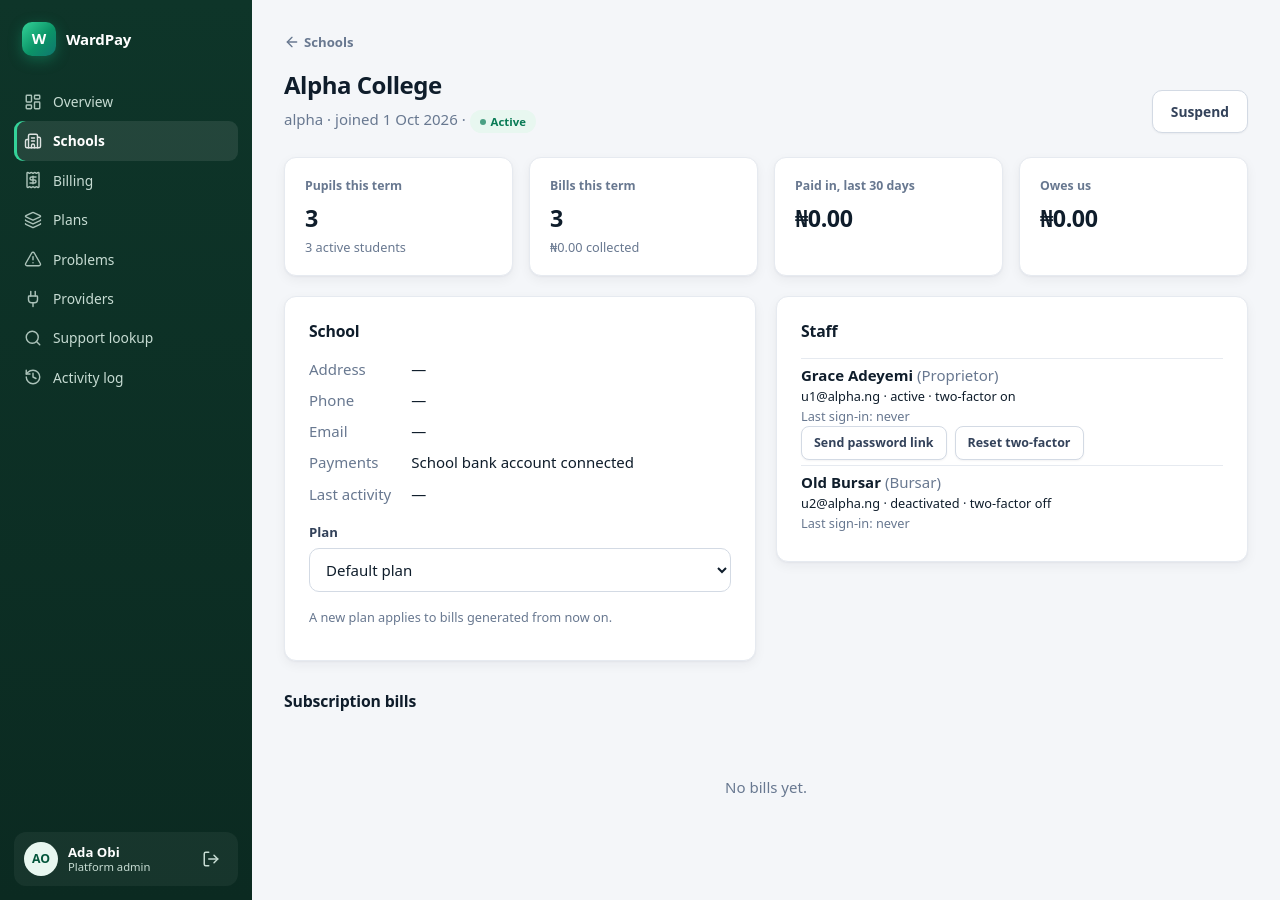
Test: helping a school’s staff › sends a password link and resets two-factor after a confirmation
Click the button "Send password link": click(874, 443) [801,426,947,460]
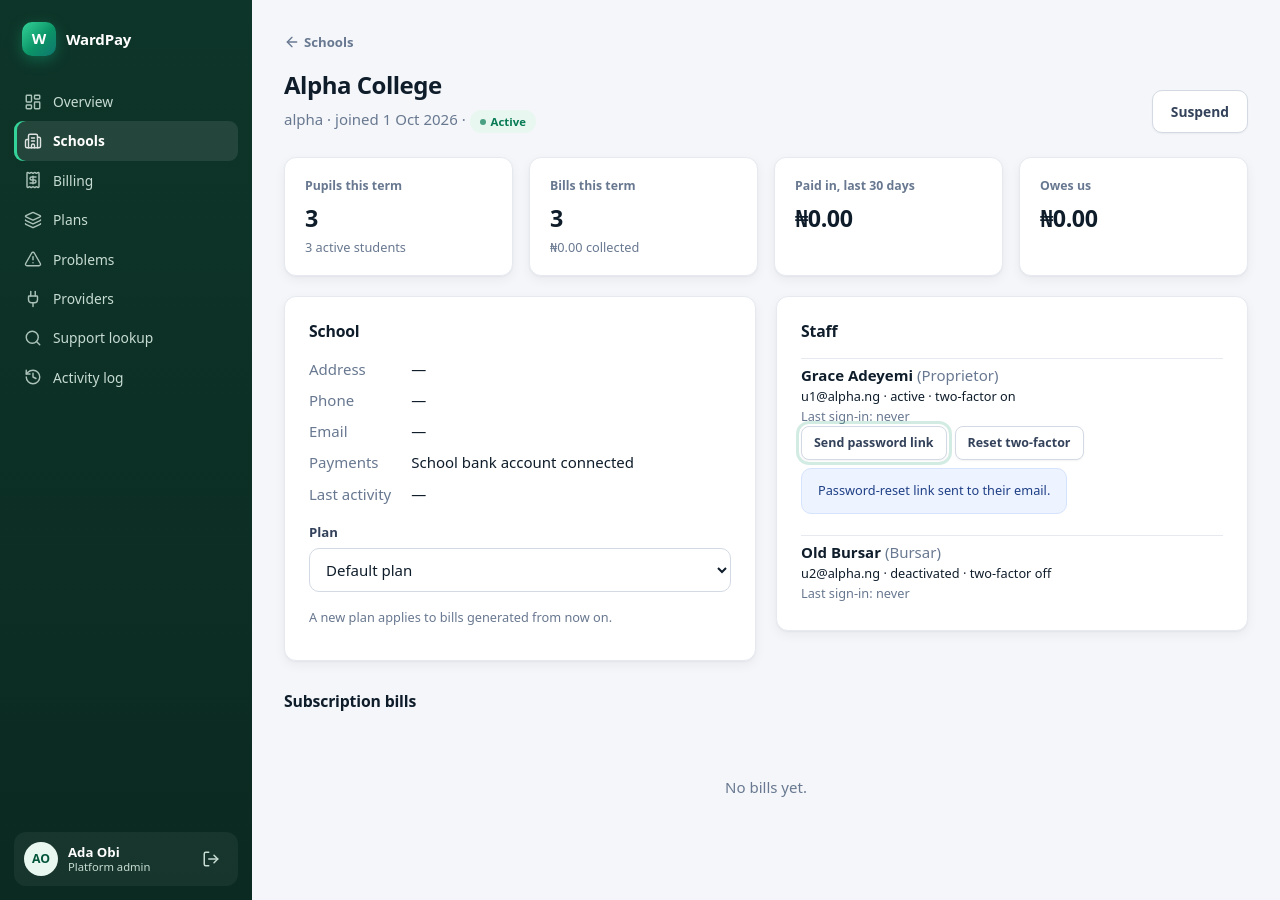
expect the text "Password-reset link sent to their email." is shown: met, box [801,468,1067,514]
Click the button "Reset two-factor": click(1019, 443) [955,426,1084,460]
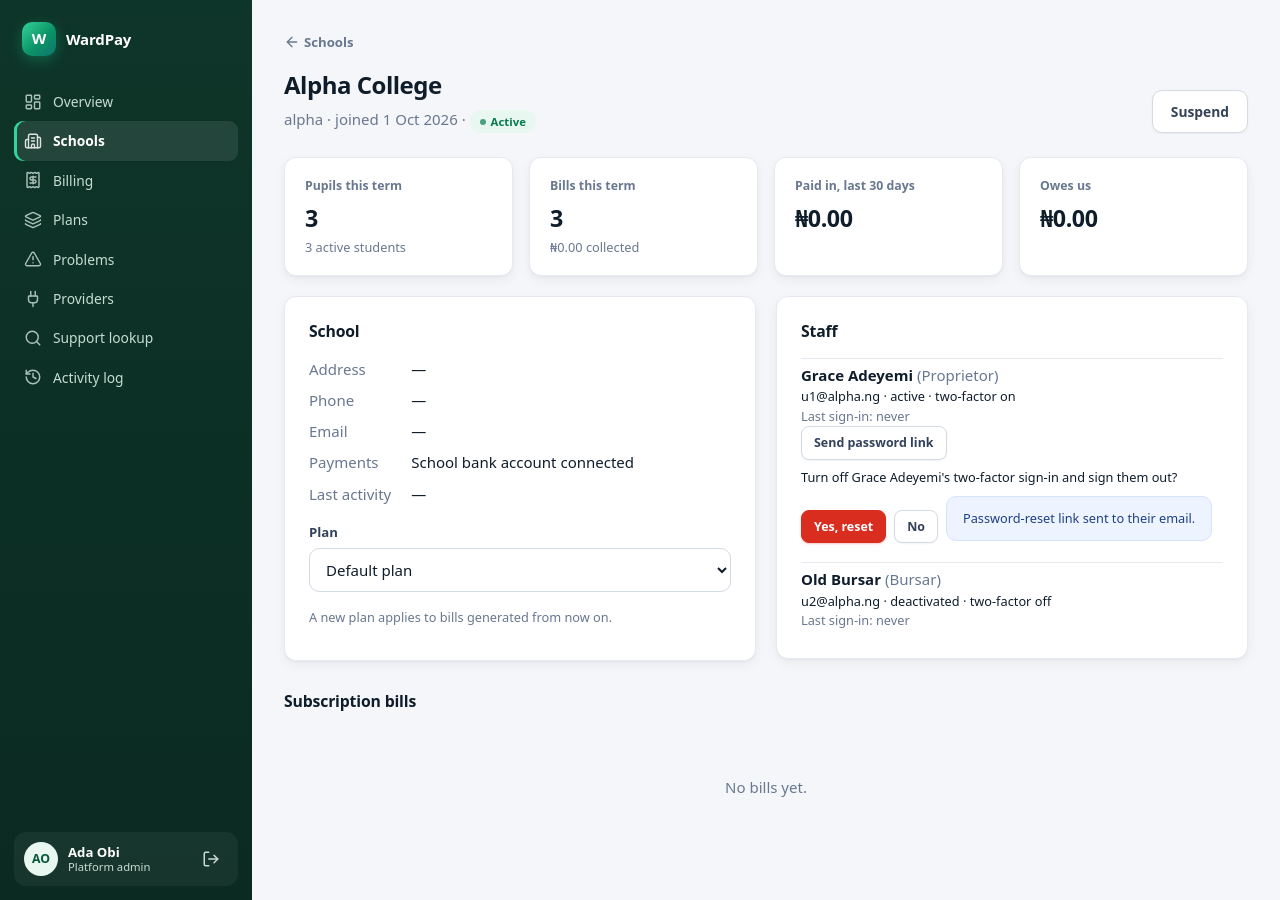
Click the button "Yes, reset": click(844, 526) [801,510,886,543]
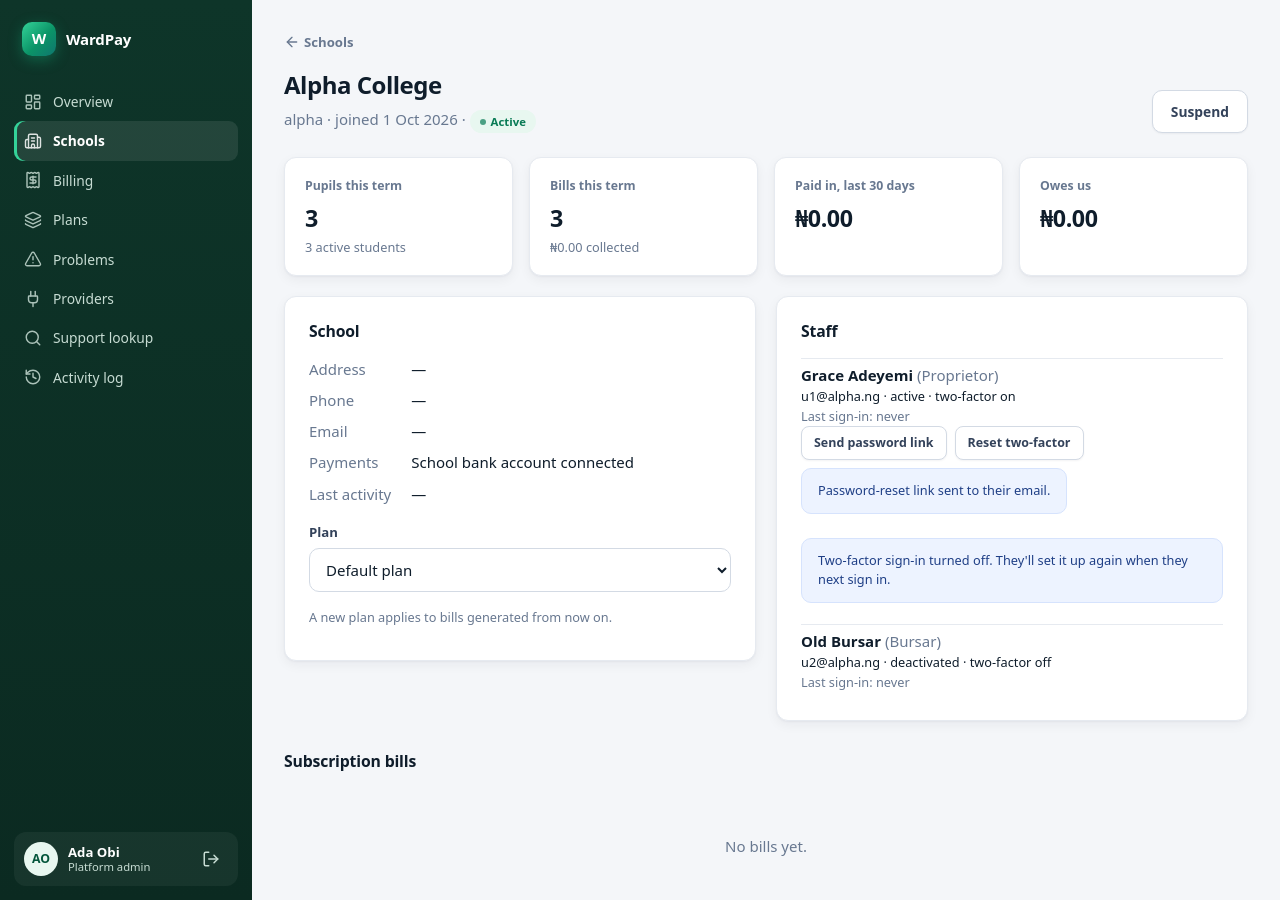
expect the text "Two-factor sign-in turned off. They'll set it up again when they next sign in." is shown: met, box [801,538,1223,603]
